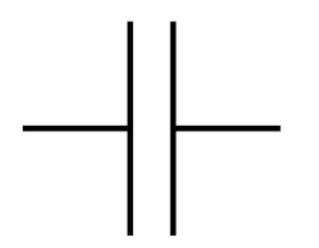Capacitor: (77, 11, 214, 236)
